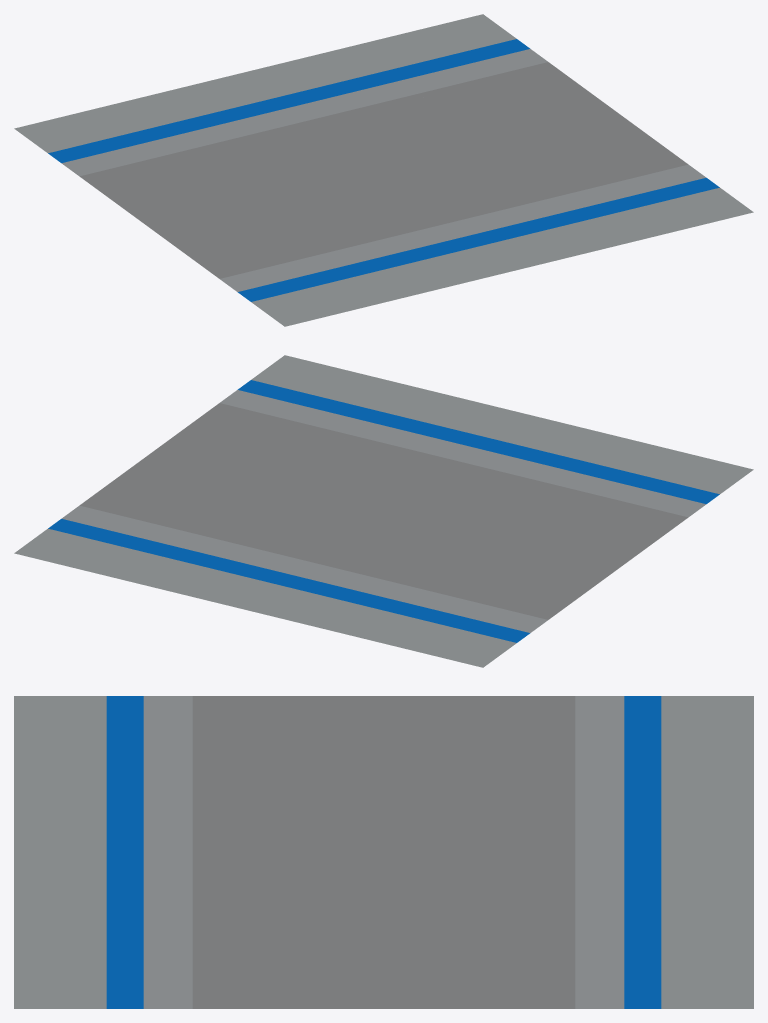
File: Ceiling_type_B_009.fbx
3 views of the same model, one above another, from view 1: azimuth 30°, elevation 25°; view 2: azimuth 150°, elevation 25°; view 3: azimuth 270°, elevation 25° (orthographic). The views are drawn at different scales.
Visible parts, largest first — view 1: Ceiling_type_B_009; view 2: Ceiling_type_B_009; view 3: Ceiling_type_B_009.
Part boxes in pixels (bbox=[...]): Ceiling_type_B_009: bbox=[14, 14, 753, 326]; Ceiling_type_B_009: bbox=[14, 355, 753, 667]; Ceiling_type_B_009: bbox=[14, 696, 753, 1008].
Size of the model in its own units: 400 by 400 by 4.55.
